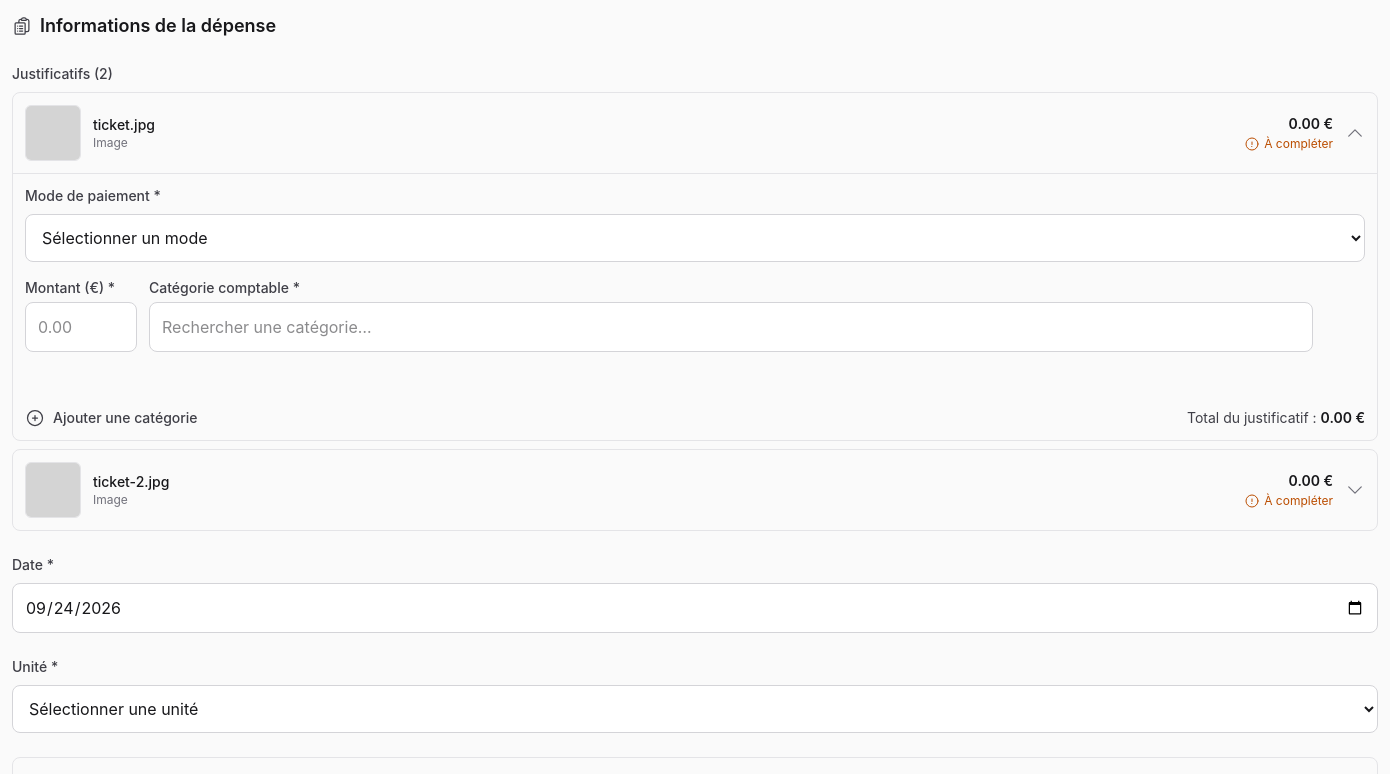
Test: FormulaireDepense › n’ouvre qu’un justificatif à la fois
The image size is (1390, 774).
Click the button "ticket-2.jpg Image 0.00 € À compléter".
click(53, 490)  # box [25,462,1365,518]
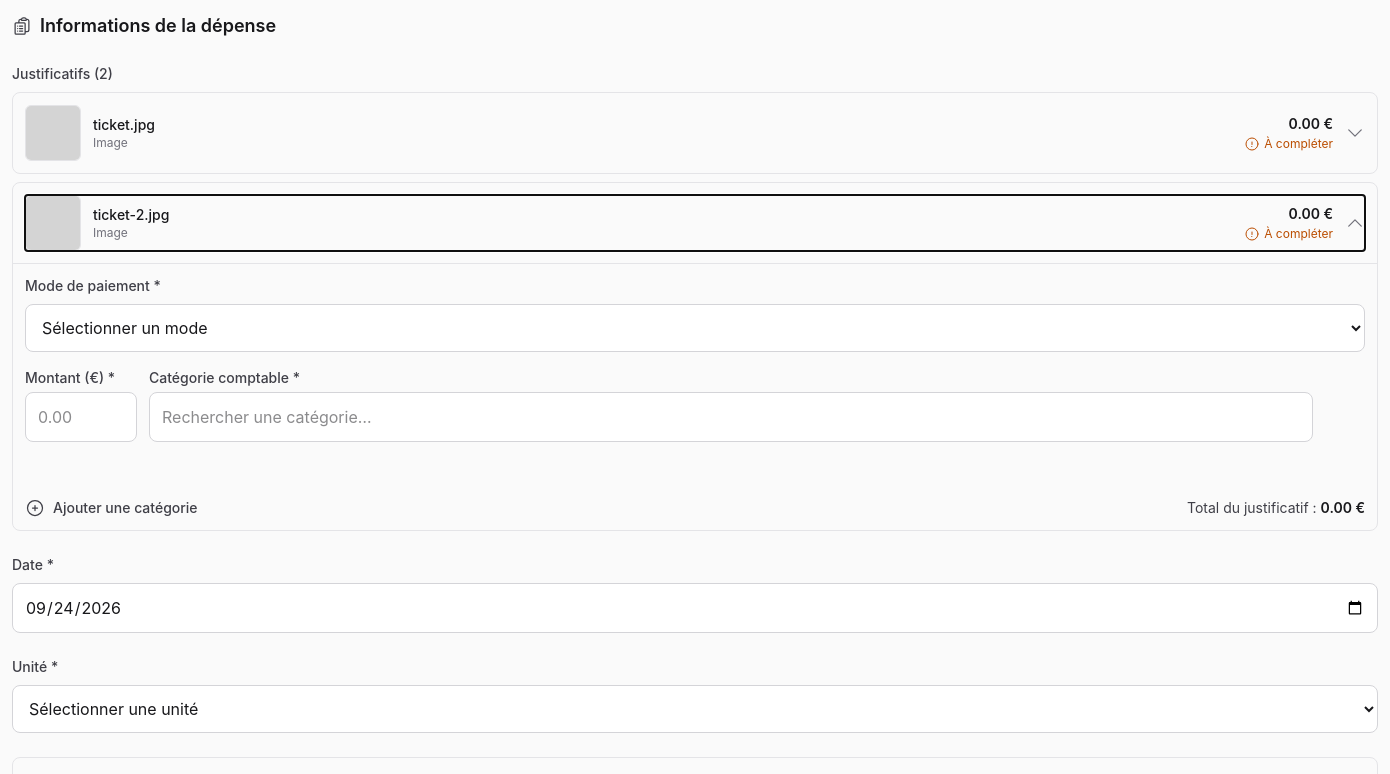
Expected: the button "ticket.jpg Image 0.00 € À compléter" is collapsed, [25,105,1365,161]
Expected: the button "ticket-2.jpg Image 0.00 € À compléter" is expanded, [25,195,1365,251]
